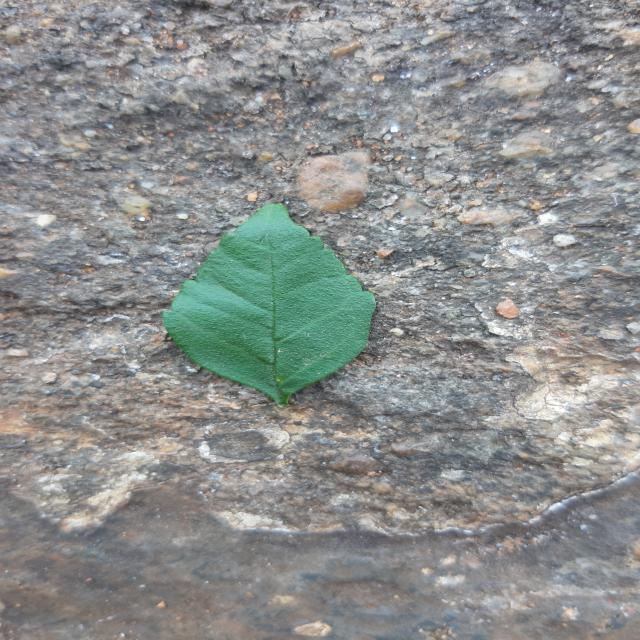tecoma: (162, 204, 376, 405)
